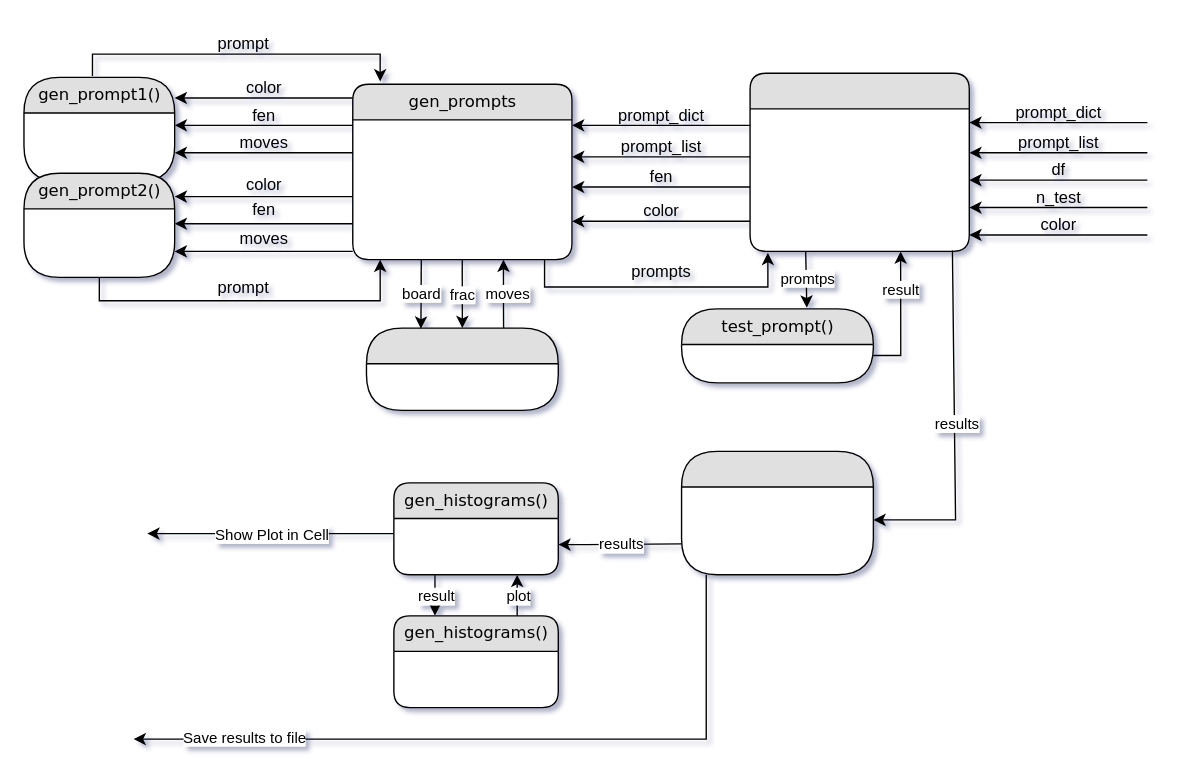
This 1191x782 diagram has some shape labels left out. Here are the shapes that lost their labels. From the top down, the centre of each, then its label:
At pixel 859 161: "init_prompt_test()".
At pixel 461 368: "gen_legal_moves()".
At pixel 776 512: "output_handler()".
